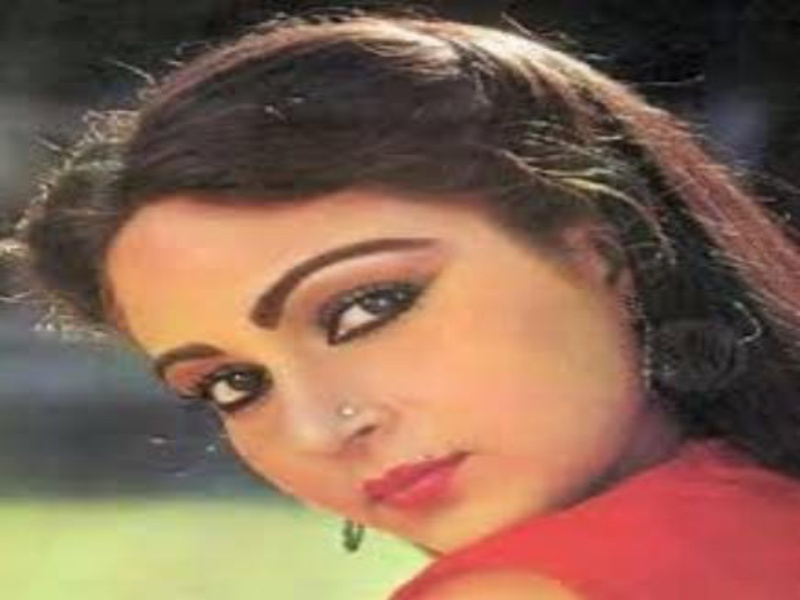TsisyArotava: (81, 62, 672, 593)
